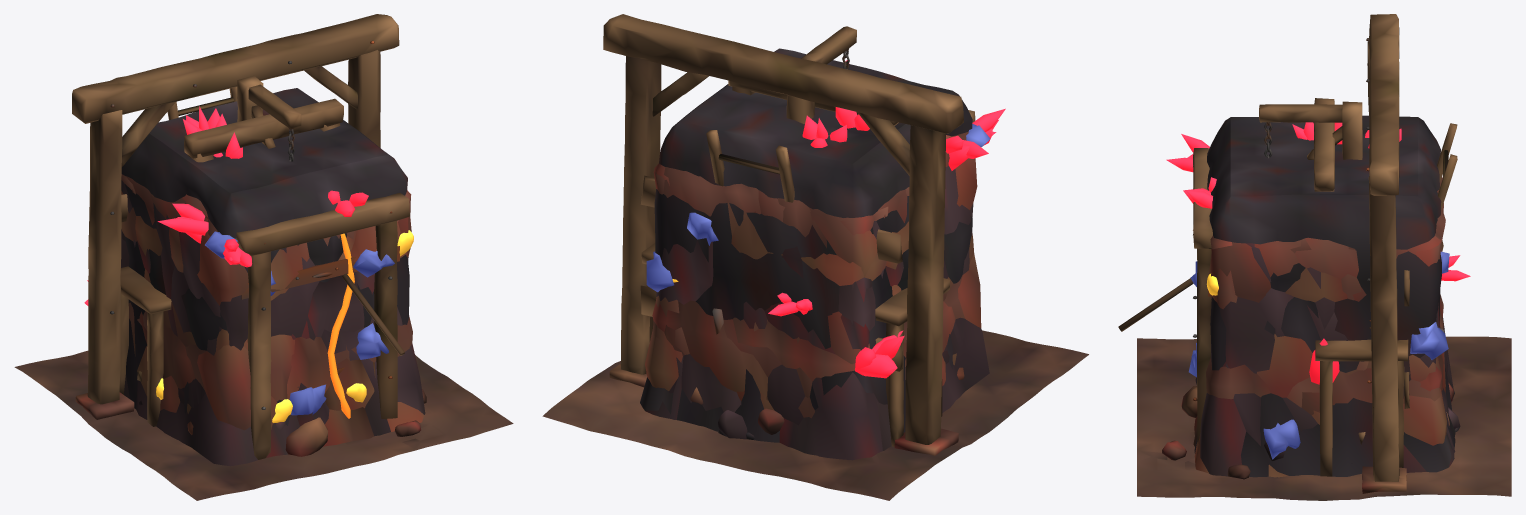
The model's file is bioma_minas.glb.
3 renders of one model, left to right at view 1: azimuth 30°, elevation 25°; view 2: azimuth 150°, elevation 25°; view 3: azimuth 270°, elevation 25°, orthographic. The views are drawn at different scales.
Parts seen in each view (by area): view 1: pared_borde_malla, deco_puntal_malla, pared_blanda_b_malla, pared_dura_a_malla, veta_sangre_malla, piso_b_malla, pared_dura_b_malla, veta_hierro_malla, veta_oro_malla, piso_c_malla, deco_mesa_minero_malla, piso_a_malla (+7 smaller); view 2: deco_puntal_malla, pared_borde_malla, pared_dura_b_malla, pared_dura_a_malla, piso_b_malla, veta_hierro_malla, pared_blanda_c_malla, veta_sangre_malla, piso_c_malla, piso_a_malla, veta_oro_malla, pared_blanda_a_malla (+5 smaller); view 3: pared_borde_malla, deco_puntal_malla, piso_b_malla, pared_dura_a_malla, veta_sangre_malla, pared_blanda_b_malla, veta_hierro_malla, piso_c_malla, piso_a_malla, pared_blanda_c_malla, deco_mesa_minero_malla, luz_lampara_malla (+8 smaller).
Part boxes in pixels (left/top/right/bottom): pared_borde_malla: left=121, top=88, right=409, bottom=425; deco_puntal_malla: left=72, top=14, right=399, bottom=419; pared_blanda_b_malla: left=121, top=193, right=411, bottom=459; pared_dura_a_malla: left=121, top=180, right=425, bottom=466; veta_sangre_malla: left=84, top=106, right=412, bottom=456; piso_b_malla: left=22, top=350, right=505, bottom=497; pared_dura_b_malla: left=121, top=214, right=399, bottom=436; veta_hierro_malla: left=121, top=174, right=410, bottom=415; veta_oro_malla: left=128, top=214, right=413, bottom=446; piso_c_malla: left=26, top=361, right=511, bottom=492; deco_mesa_minero_malla: left=119, top=266, right=171, bottom=426; piso_a_malla: left=50, top=355, right=478, bottom=495; deco_puntal_malla: left=603, top=14, right=963, bottom=455; pared_borde_malla: left=640, top=48, right=972, bottom=442; pared_dura_b_malla: left=645, top=203, right=973, bottom=460; pared_dura_a_malla: left=668, top=165, right=989, bottom=450; piso_b_malla: left=551, top=331, right=1080, bottom=497; veta_hierro_malla: left=646, top=124, right=990, bottom=396; pared_blanda_c_malla: left=645, top=132, right=968, bottom=404; veta_sangre_malla: left=655, top=60, right=1005, bottom=418; piso_c_malla: left=545, top=339, right=1074, bottom=495; piso_a_malla: left=581, top=330, right=1073, bottom=480; veta_oro_malla: left=653, top=167, right=955, bottom=434; pared_blanda_a_malla: left=673, top=158, right=977, bottom=379; pared_borde_malla: left=1207, top=115, right=1455, bottom=477; deco_puntal_malla: left=1362, top=14, right=1409, bottom=493; piso_b_malla: left=1137, top=336, right=1511, bottom=500; pared_dura_a_malla: left=1195, top=288, right=1460, bottom=476; veta_sangre_malla: left=1166, top=122, right=1470, bottom=417; pared_blanda_b_malla: left=1193, top=148, right=1445, bottom=446; veta_hierro_malla: left=1188, top=185, right=1449, bottom=459; piso_c_malla: left=1137, top=338, right=1511, bottom=497; piso_a_malla: left=1137, top=342, right=1511, bottom=500; pared_blanda_c_malla: left=1118, top=236, right=1449, bottom=477; deco_mesa_minero_malla: left=1315, top=320, right=1408, bottom=476; luz_lampara_malla: left=1259, top=101, right=1362, bottom=159.
Size of the model in its own units: 2 by 2.02 by 2.1.
